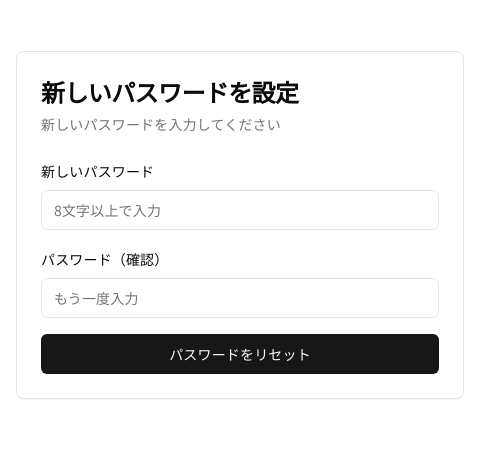
Test: ResetPasswordPage › should display generic error on network failure
Type "newPassword123" into the password field labelled "新しいパスワード".
click(240, 210); type("newPassword123")  # box [41,190,439,230]
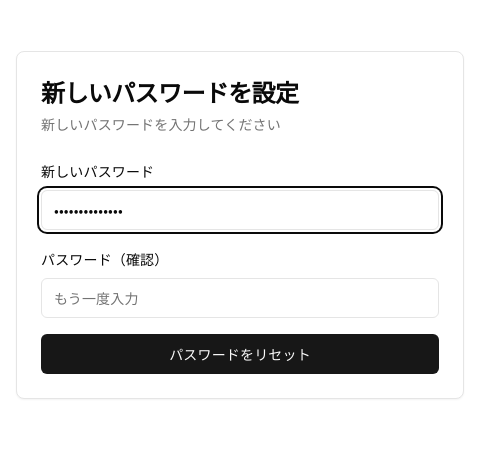
Type "newPassword123" into the password field labelled "パスワード（確認）".
click(240, 298); type("newPassword123")  # box [41,278,439,318]
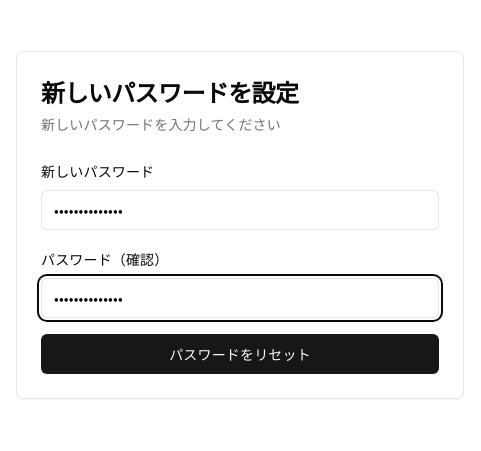
Click the button "パスワードをリセット".
click(240, 354)  # box [41,334,439,374]
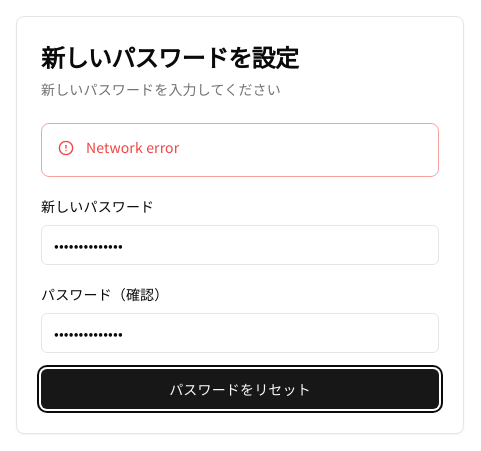
Expected: the text "Network error" is shown, [86,137,179,157]
